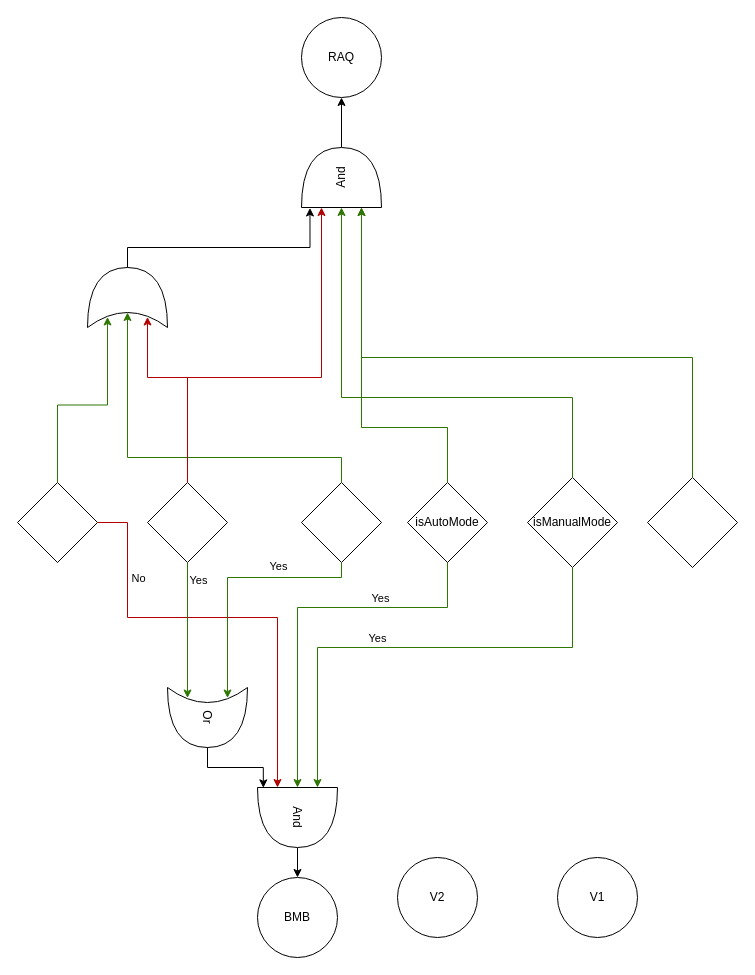
The diagram is 755 pixels wide and 975 high, and some of its shapes have lost their labels. The shapes that lost their labels are listed below. From the top down, each one's box as (x1, y1, x2, y2) in pixels, then its label:
(16, 482, 98, 562): isWaterMax
(146, 482, 228, 562): isAlarm
(300, 482, 382, 562): isWaterMin
(646, 476, 738, 568): isTimer
